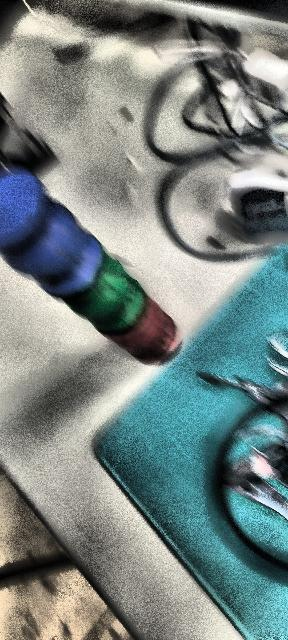blue: (0, 175, 100, 302)
green: (71, 245, 146, 340)
red: (106, 285, 181, 363)
